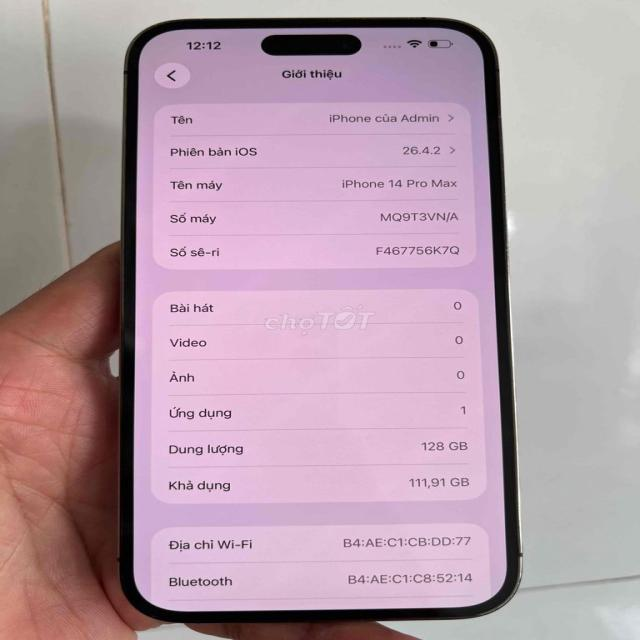gen_14: (106, 13, 530, 627)
